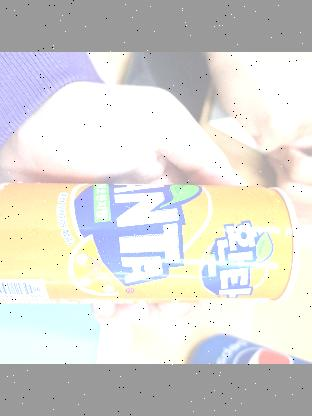Can: (0, 181, 290, 300)
